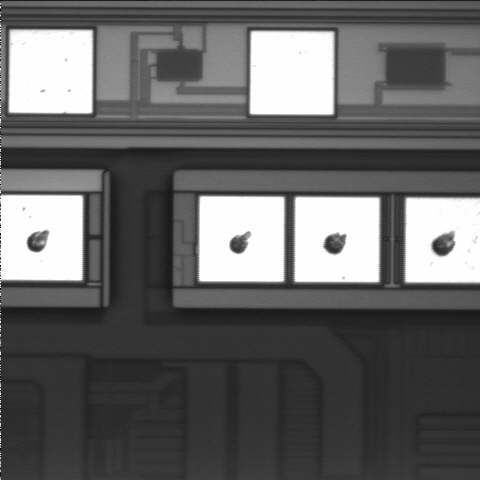pad: (199, 196, 284, 282), (295, 197, 380, 282), (250, 31, 334, 115), (9, 30, 92, 113)
